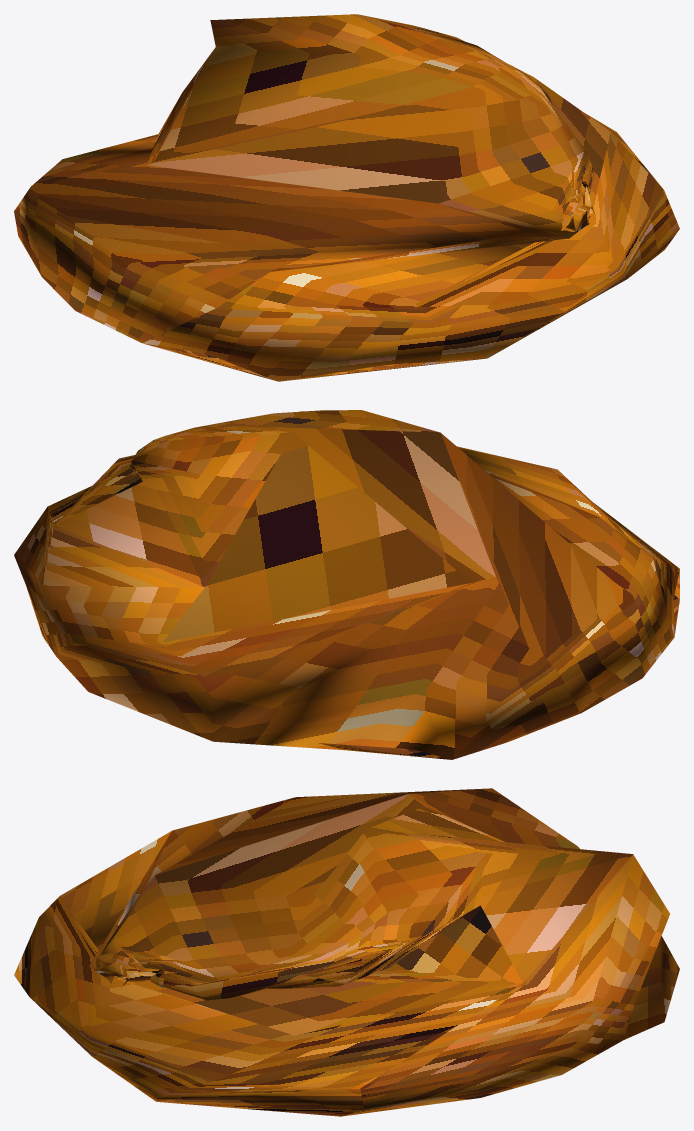
File: D_Feces1.fbx
The picture shows the model from 3 angles, top to bottom: view 1: azimuth 30°, elevation 25°; view 2: azimuth 150°, elevation 25°; view 3: azimuth 270°, elevation 25°; orthographic projection. The views are drawn at different scales.
Parts seen in each view (by area): view 1: Body; view 2: Body; view 3: Body.
Part boxes in pixels (x1=…): Body: x1=14, y1=14, x2=679, y2=381; Body: x1=14, y1=410, x2=679, y2=759; Body: x1=14, y1=788, x2=679, y2=1116.
Size of the model in its own units: 0.7324 by 0.2197 by 0.7205.
